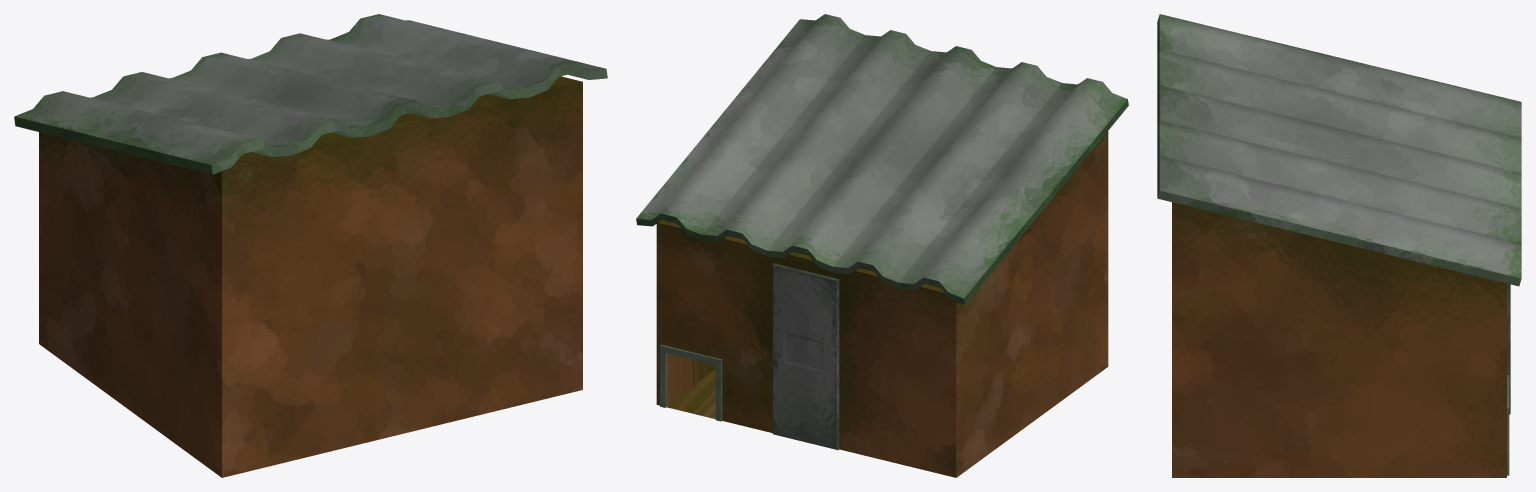
The model's file is Galinhairo.fbx.
The picture shows the model from 3 angles, left to right: view 1: azimuth 30°, elevation 25°; view 2: azimuth 150°, elevation 25°; view 3: azimuth 270°, elevation 25°; orthographic projection. The views are drawn at different scales.
Parts seen in each view (by area): view 1: Galinheiro_Mesh, Telhado_Mesh; view 2: Telhado_Mesh, Galinheiro_Mesh, Porta_Mesh, Borda_Mesh; view 3: Galinheiro_Mesh, Telhado_Mesh, Porta_Mesh.
Boxes of the visible parts, bbox=[...] form: Galinheiro_Mesh: bbox=[39, 76, 582, 477]; Telhado_Mesh: bbox=[14, 14, 607, 174]; Telhado_Mesh: bbox=[636, 14, 1128, 304]; Galinheiro_Mesh: bbox=[656, 131, 1108, 477]; Porta_Mesh: bbox=[772, 263, 839, 450]; Borda_Mesh: bbox=[660, 344, 722, 421]; Galinheiro_Mesh: bbox=[1172, 202, 1506, 477]; Telhado_Mesh: bbox=[1157, 14, 1521, 286]; Porta_Mesh: bbox=[1507, 283, 1510, 414].
Bounding box in the file's own units: 492 × 399 × 428.
4 materials, 4 textured.
